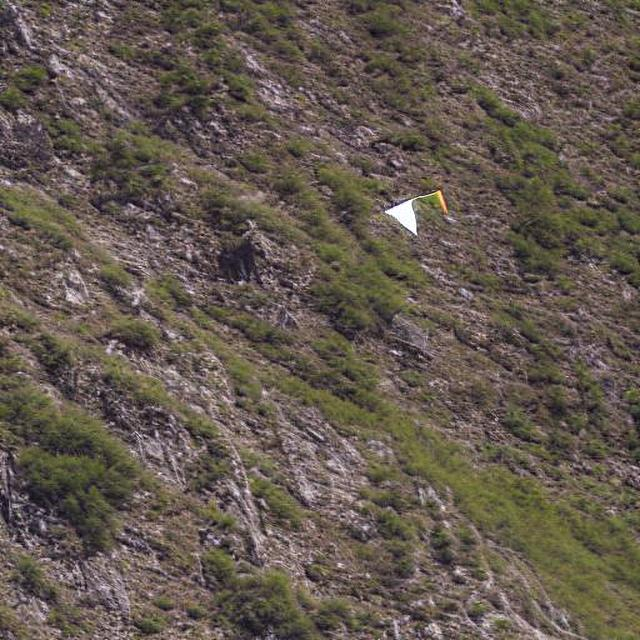floating object: (379, 188, 448, 234)
